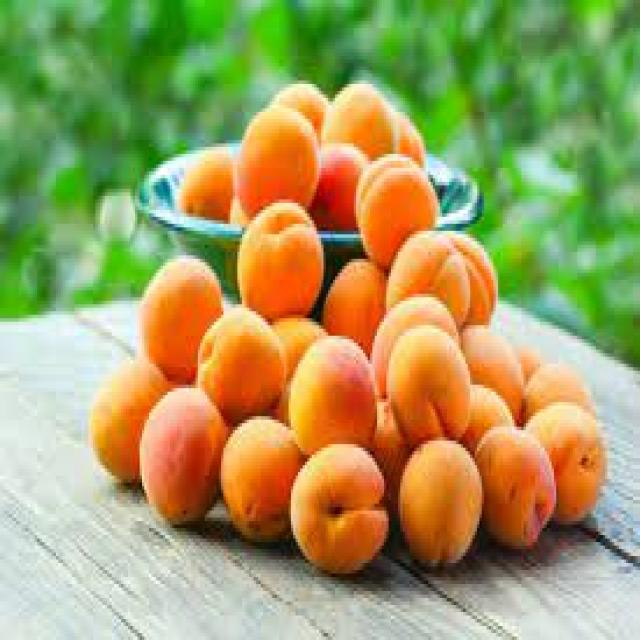kayisi: (94, 90, 603, 558)
